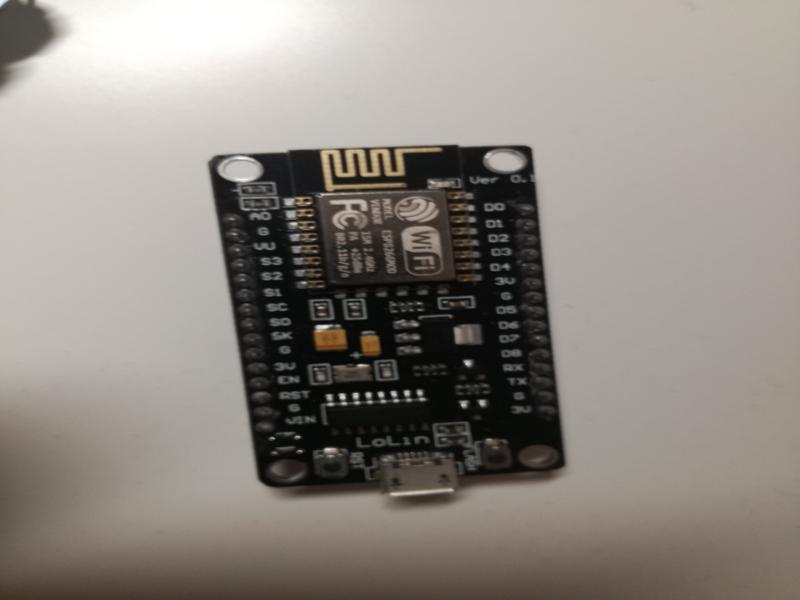ESP8266: (200, 139, 583, 503)
